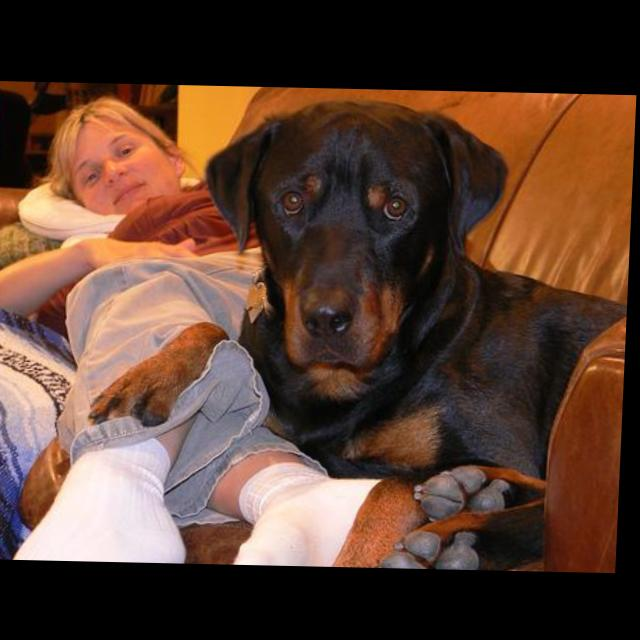face: (72, 116, 185, 216)
person: (1, 94, 408, 568)
rottweiler: (90, 92, 637, 571)
